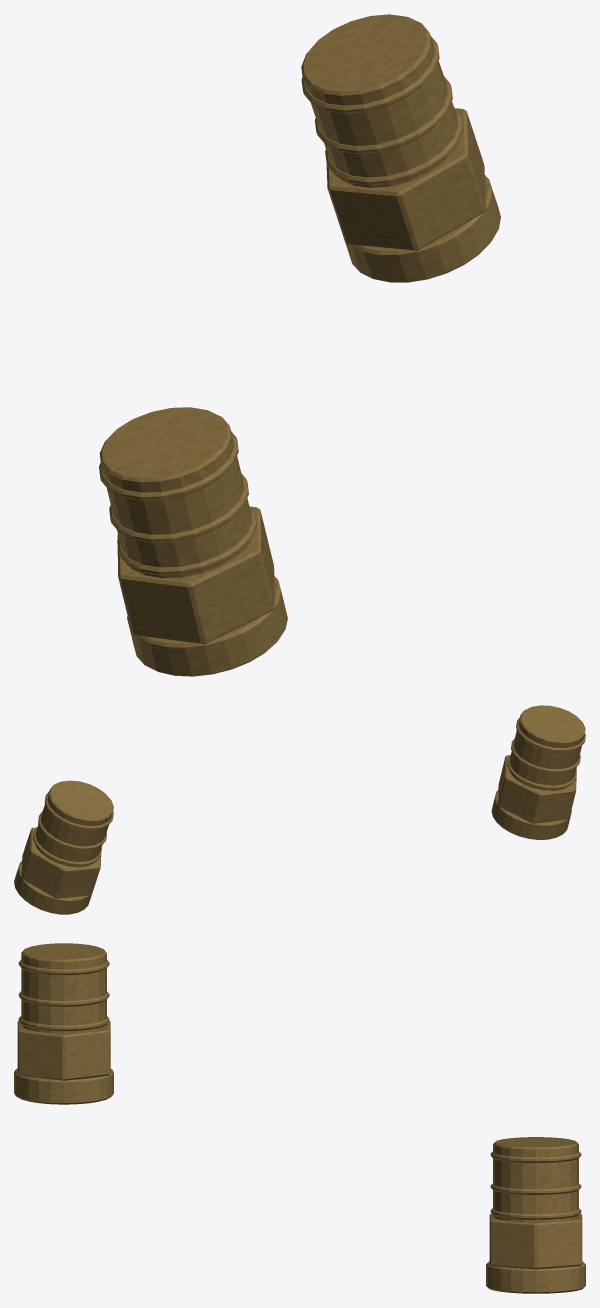
Rendered from hose_couplers.glb.
The picture shows the model from 3 angles, top to bottom: view 1: azimuth 30°, elevation 25°; view 2: azimuth 150°, elevation 25°; view 3: azimuth 270°, elevation 25°; orthographic projection. The views are drawn at different scales.
Visible parts, largest first — view 1: hose_couplers; view 2: hose_couplers; view 3: hose_couplers.
Part boxes in pixels (x1,y1,x2,y2): hose_couplers: [99, 14, 500, 676]; hose_couplers: [14, 705, 585, 914]; hose_couplers: [14, 943, 585, 1293].
Size of the model in its own units: 0.1546 by 0.05 by 0.16.
1 material, 1 textured.
